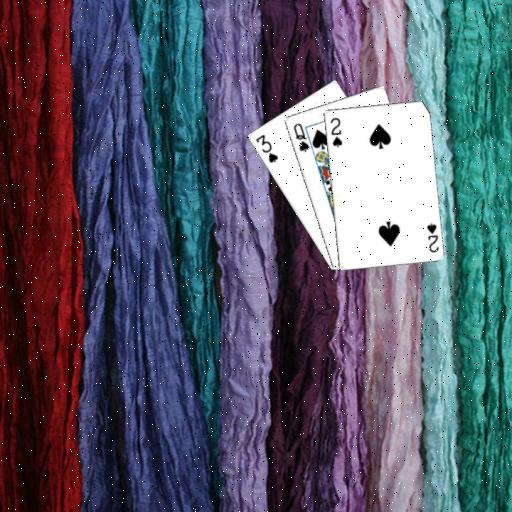2S: (328, 115, 344, 149), (424, 220, 440, 254)
3S: (253, 132, 280, 164)
QS: (291, 120, 311, 154)
